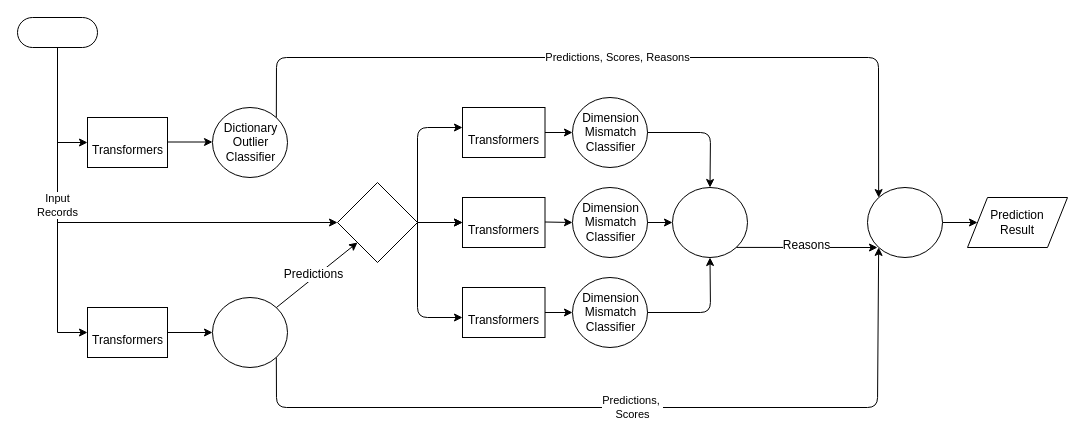
The diagram is 1085 pixels wide and 438 high, and some of its shapes have lost their labels. The shapes that lost their labels are listed below. From the top down, each one's box as (x1, y1, x2, y2) in pixels, then its label:
(16, 16, 98, 48): Prediction Request
(336, 182, 418, 262): Outlier Filter
(672, 186, 748, 258): Reason Aggregator
(866, 186, 942, 258): Model Aggregator
(212, 296, 288, 368): Local Outlier Classifier
